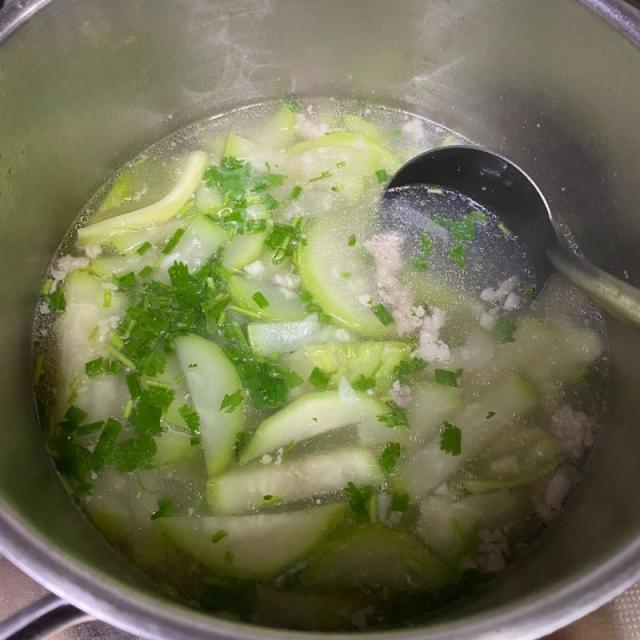canh bau: (66, 100, 602, 605)
